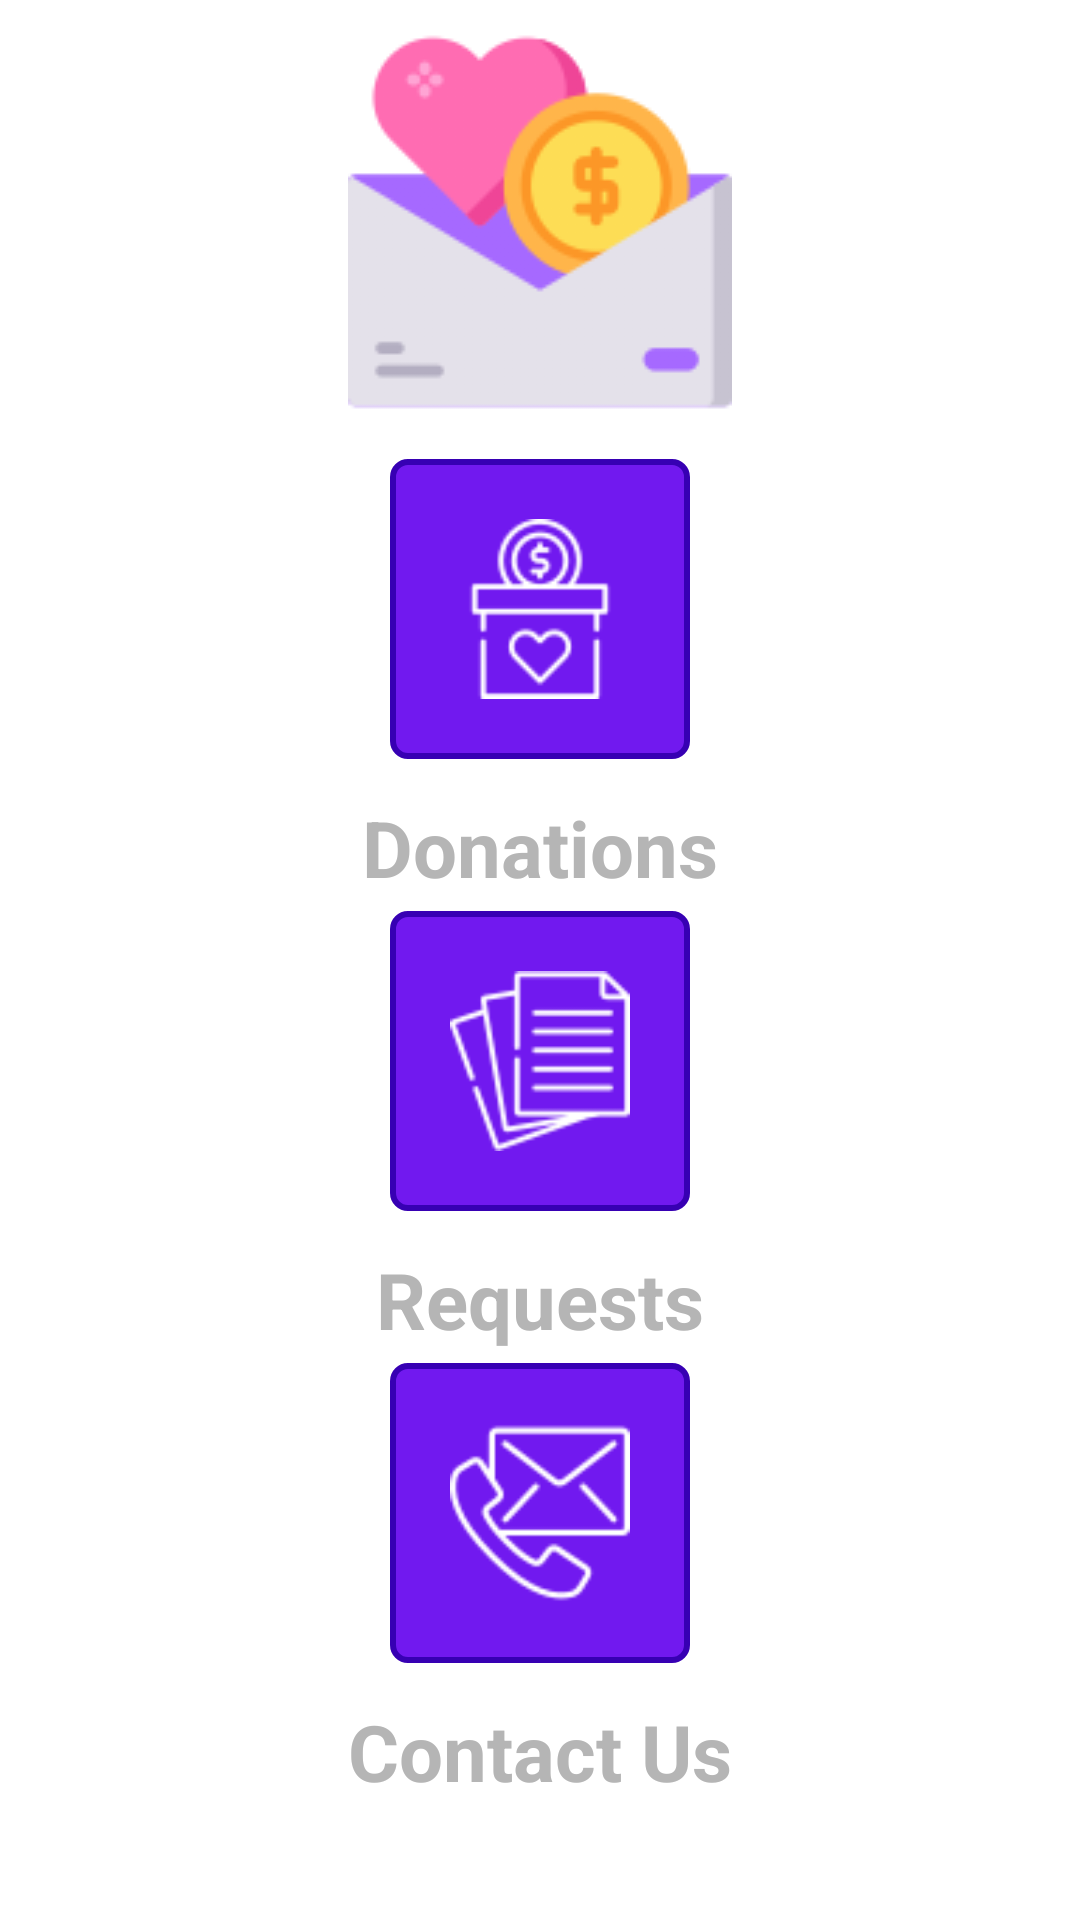

Where icons sit on this 1080w x 1920h app screen, as (x1, y1, x2, y2):
paper: (390, 911, 690, 1211)
